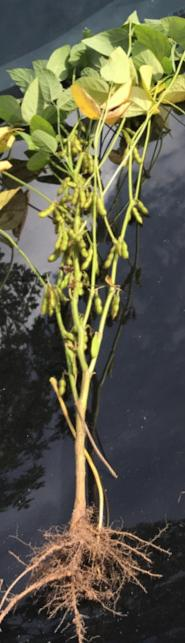soja: (110, 293, 130, 324), (90, 330, 107, 363), (89, 293, 112, 317), (114, 241, 139, 262), (133, 195, 158, 216), (101, 244, 121, 270), (46, 224, 64, 252), (77, 248, 97, 273), (95, 191, 110, 219), (55, 272, 74, 292), (40, 201, 59, 221), (85, 152, 103, 173), (46, 302, 62, 324), (126, 210, 143, 230), (80, 194, 97, 214), (40, 288, 50, 321), (70, 185, 85, 207), (46, 249, 66, 265), (132, 147, 149, 165), (75, 235, 95, 250), (75, 134, 90, 154), (56, 371, 68, 395), (53, 177, 68, 196), (48, 291, 59, 311), (62, 229, 70, 252), (127, 123, 138, 138), (121, 131, 133, 144)
